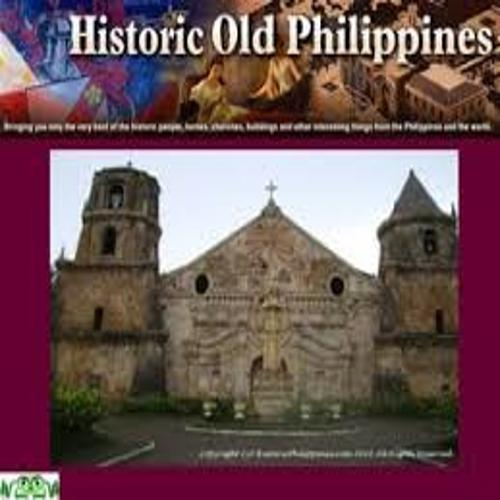Miagao Church: (57, 155, 465, 416)
